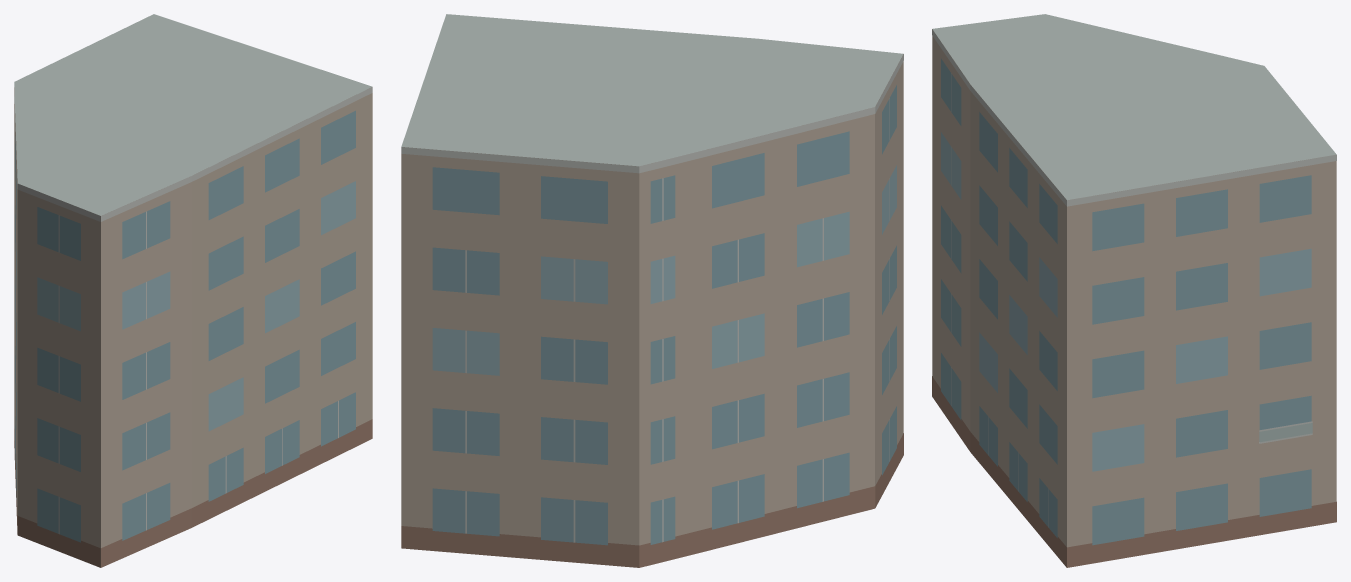
The model's file is survey-upis-33017167.glb.
3 renders of one model, left to right at view 1: azimuth 30°, elevation 25°; view 2: azimuth 150°, elevation 25°; view 3: azimuth 270°, elevation 25°, orthographic. The views are drawn at different scales.
Visible parts, largest first — view 1: survey-upis-33017167.tmp; view 2: survey-upis-33017167.tmp; view 3: survey-upis-33017167.tmp.
Boxes of the visible parts, bbox=[...] form: survey-upis-33017167.tmp: bbox=[14, 14, 372, 567]; survey-upis-33017167.tmp: bbox=[401, 14, 903, 567]; survey-upis-33017167.tmp: bbox=[932, 14, 1336, 567].
Bounding box in the file's own units: 15.33 × 14.1 × 14.08.
